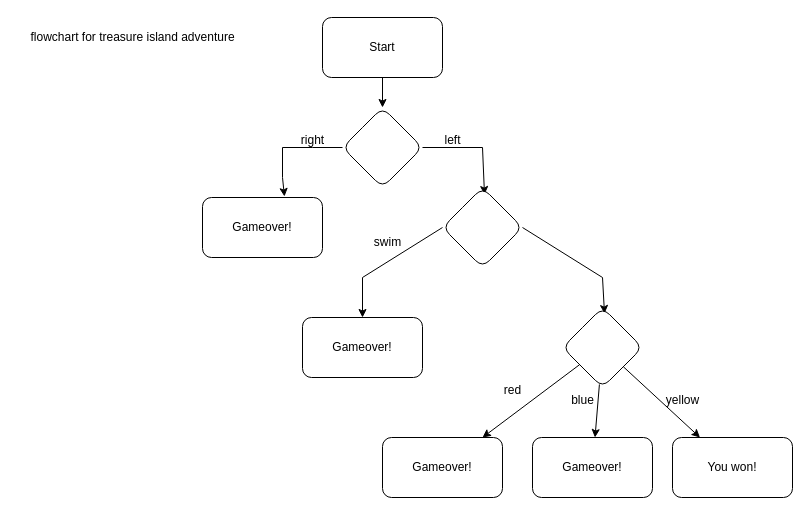
This 810x515 diagram has some shape labels left out. The centre of each missing label's shape, as x and y in pixels:
direction: (382,147)
swim or wait?: (482,227)
which door?: (602,347)
